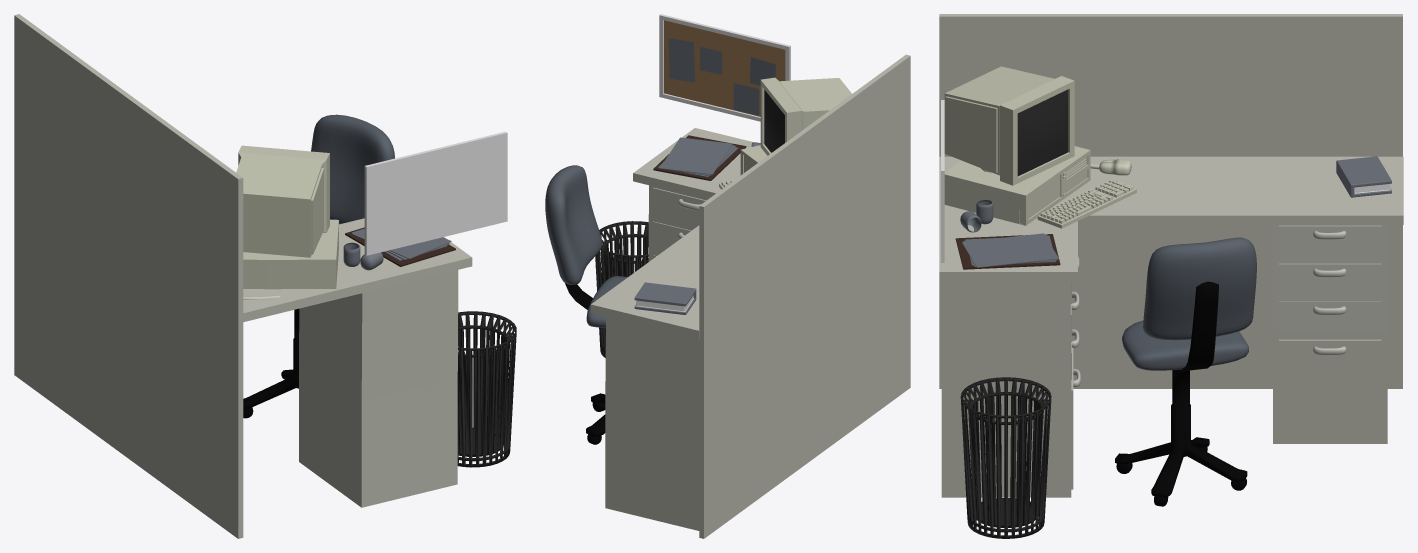
Rendered from desk.fbx.
3 renders of one model, left to right at view 1: azimuth 30°, elevation 25°; view 2: azimuth 150°, elevation 25°; view 3: azimuth 270°, elevation 25°, orthographic. The views are drawn at different scales.
Visible parts, largest first — view 1: Cube.042; view 2: Cube.042; view 3: Cube.042.
Part boxes in pixels (x1,y1,x2,y2): Cube.042: [14, 14, 516, 538]; Cube.042: [545, 14, 910, 538]; Cube.042: [939, 14, 1403, 538].
Bounding box in the file's own units: 369 × 419 × 470.
